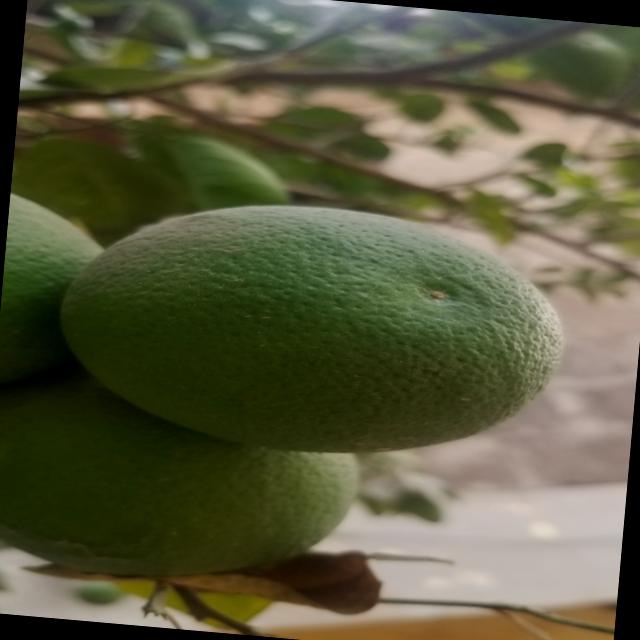Unripe: (55, 186, 558, 469), (0, 411, 358, 582), (0, 190, 117, 399)
